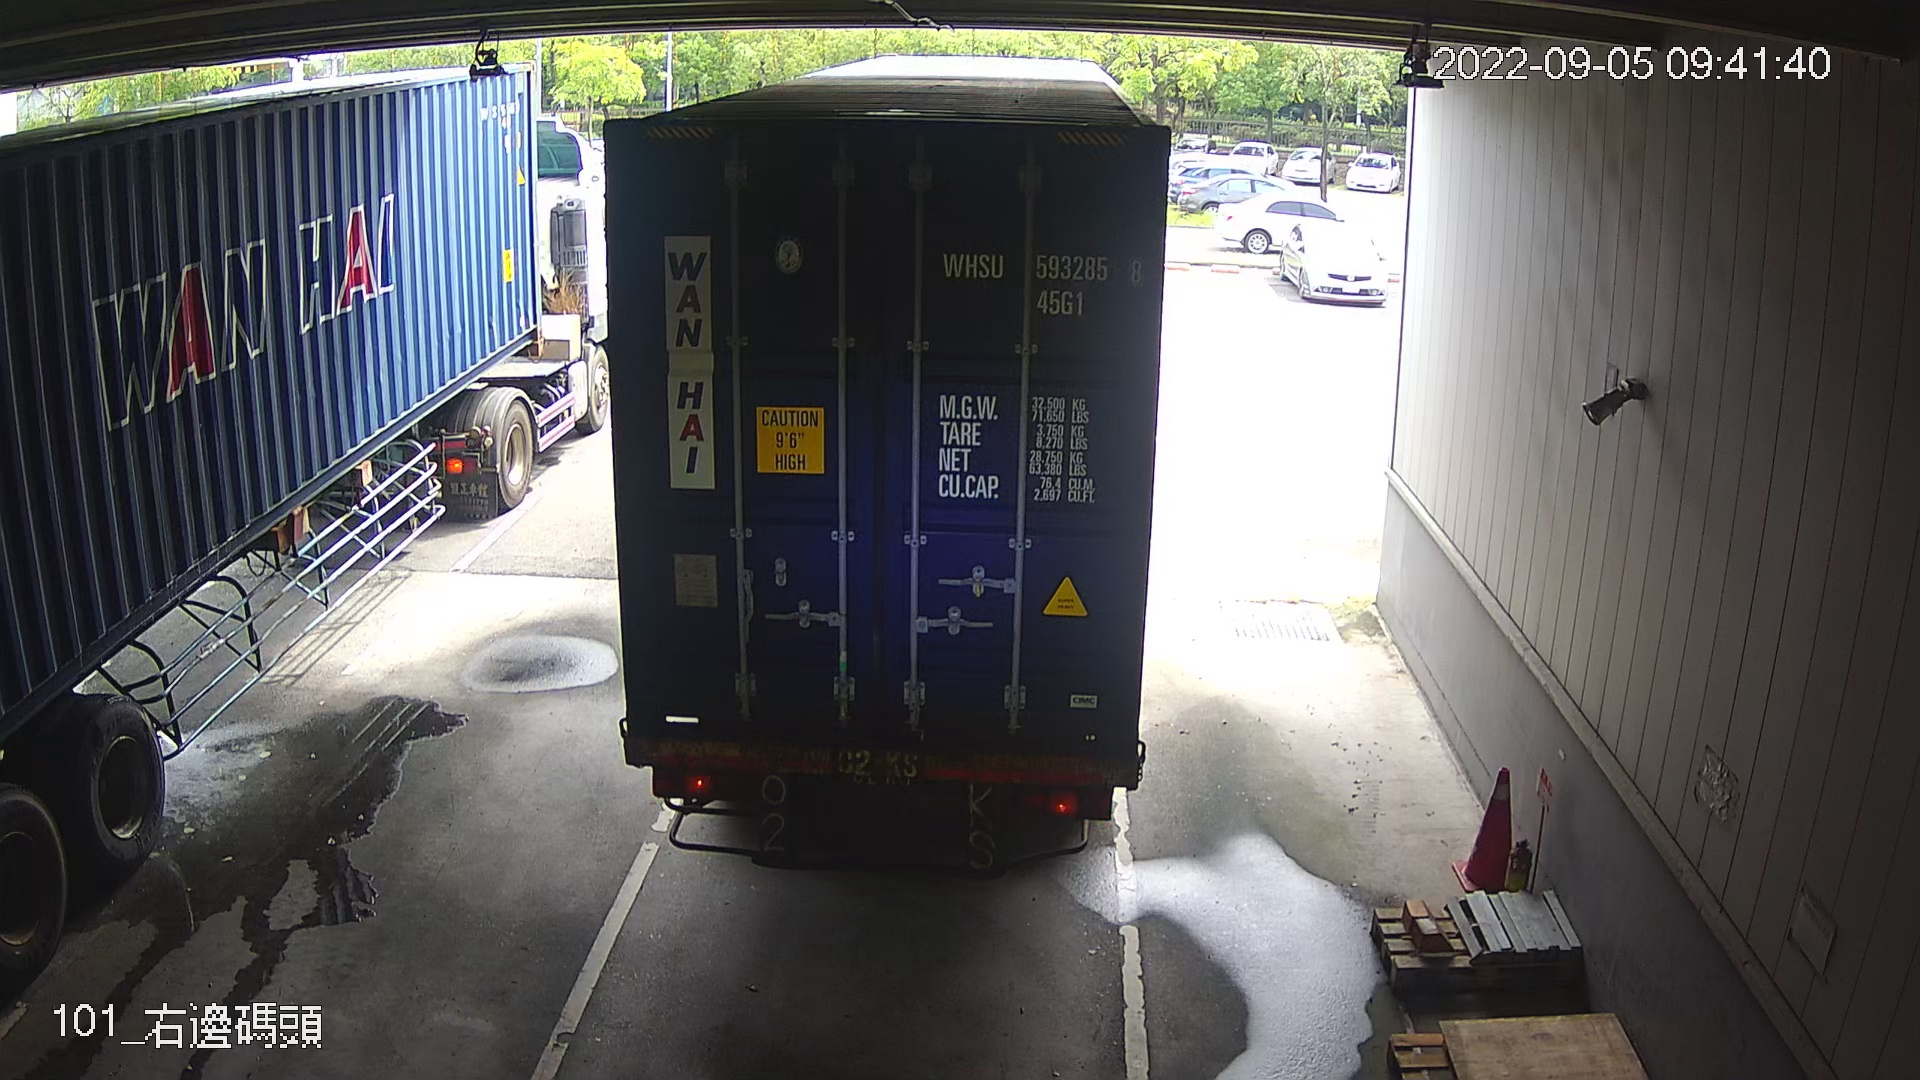container: (932, 236, 1150, 324)
